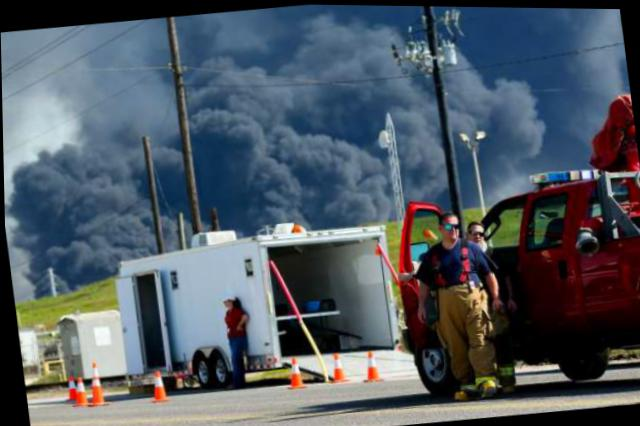smoke: (178, 2, 390, 233), (4, 123, 152, 262), (139, 18, 182, 213), (395, 89, 443, 192), (488, 75, 538, 170), (575, 7, 629, 94), (445, 61, 484, 131)
